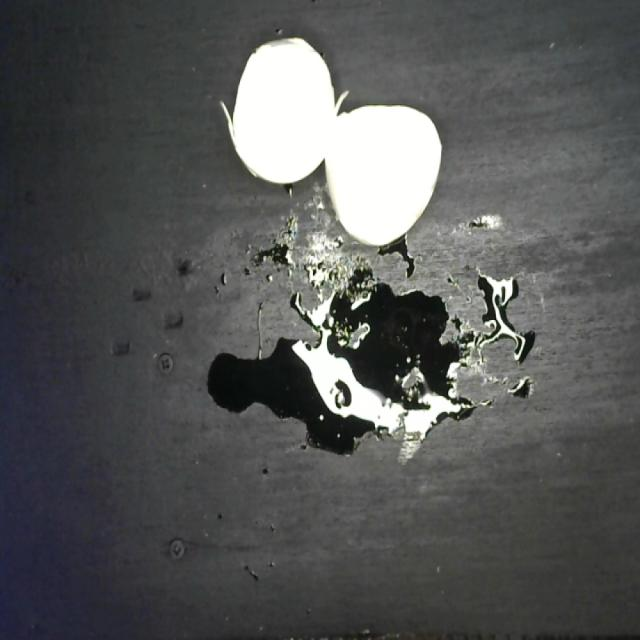biodegradable: (213, 11, 444, 248)
